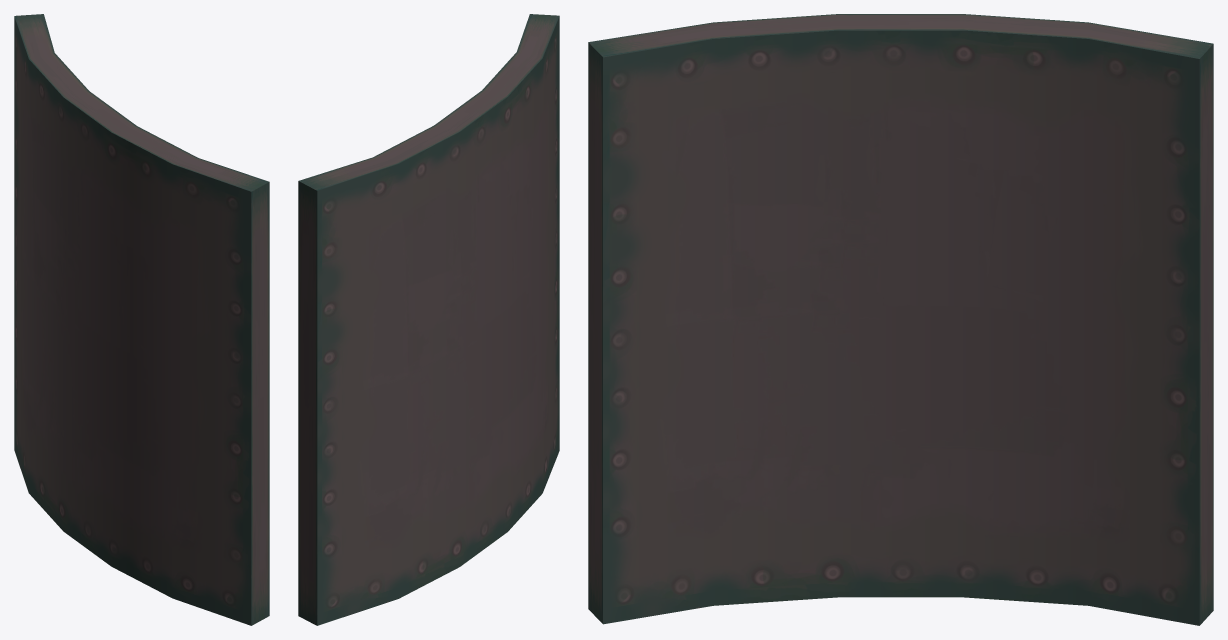
The model's file is wallRound.fbx.
3 renders of one model, left to right at view 1: azimuth 30°, elevation 25°; view 2: azimuth 150°, elevation 25°; view 3: azimuth 270°, elevation 25°, orthographic. The views are drawn at different scales.
Parts seen in each view (by area): view 1: wallMetal; view 2: wallMetal; view 3: wallMetal.
Part boxes in pixels (x1,y1,x2,y2): wallMetal: [14, 14, 269, 625]; wallMetal: [298, 14, 559, 625]; wallMetal: [588, 14, 1213, 625].
Size of the model in its own units: 1.36 by 8 by 8.
